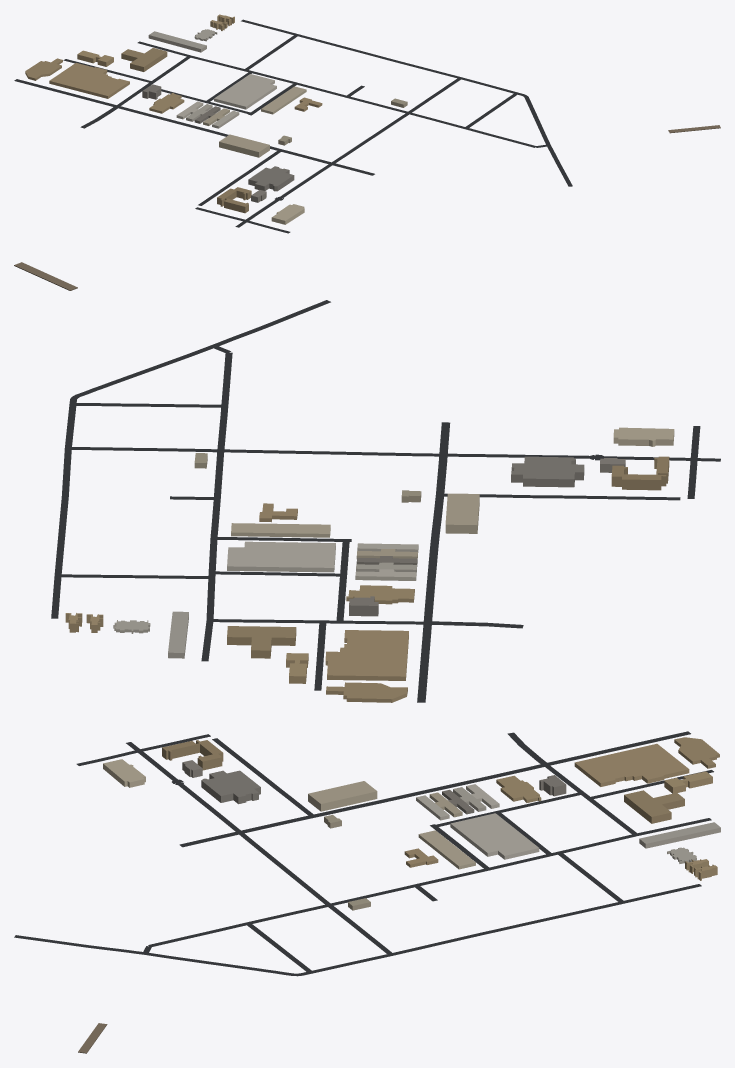
Rendered from tile_17_6.glb.
The picture shows the model from 3 angles, top to bottom: view 1: azimuth 30°, elevation 25°; view 2: azimuth 150°, elevation 25°; view 3: azimuth 270°, elevation 25°; orthographic projection. The views are drawn at different scales.
Visible parts, largest first — view 1: bld_17_6, road_17_6; view 2: bld_17_6, road_17_6; view 3: bld_17_6, road_17_6.
Boxes of the visible parts, x1,y1,x2,y2 form: bld_17_6: (25, 14, 407, 224); road_17_6: (14, 19, 572, 233); bld_17_6: (65, 427, 674, 702); road_17_6: (51, 300, 720, 702); bld_17_6: (103, 737, 720, 910); road_17_6: (14, 731, 713, 976).
Bounding box in the file's own units: 930 × 13.53 × 865.
